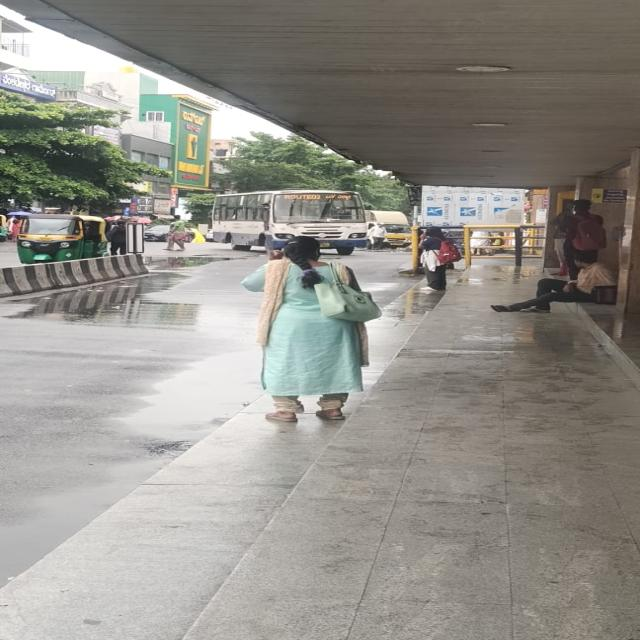bus: (210, 189, 368, 260)
display: (280, 194, 356, 201)
dnumber: (284, 194, 322, 200)
